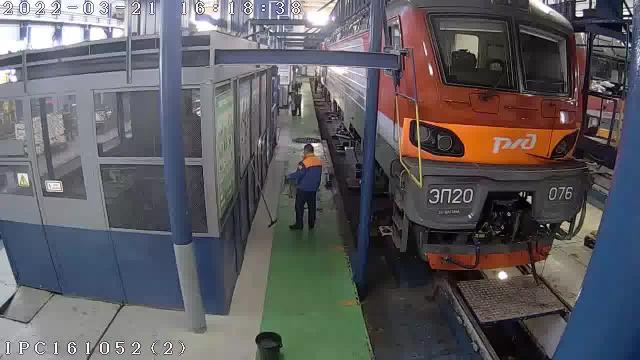person: (287, 144, 322, 229), (294, 90, 301, 115), (289, 91, 296, 115), (314, 75, 320, 92)
train: (376, 0, 589, 269)
